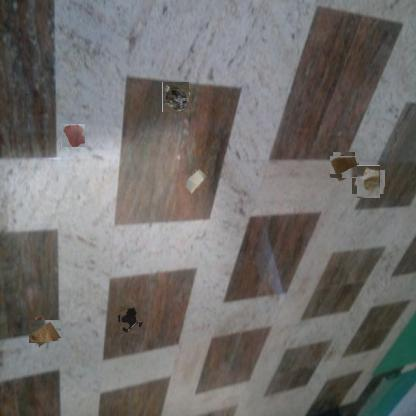dirty: (354, 168, 383, 196), (162, 83, 190, 112), (31, 317, 59, 345), (332, 154, 358, 180), (184, 168, 208, 194)
liquid: (118, 308, 142, 332), (61, 123, 85, 147)
